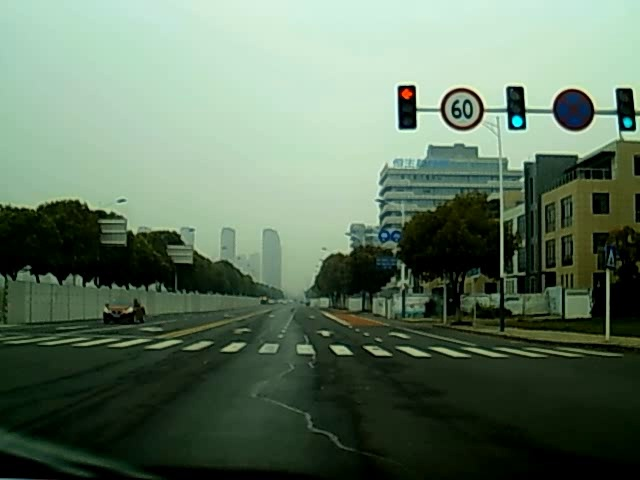Traffic_Light_go: (507, 86, 525, 131), (617, 91, 636, 133)
Traffic_Light_stop: (397, 85, 415, 124)
